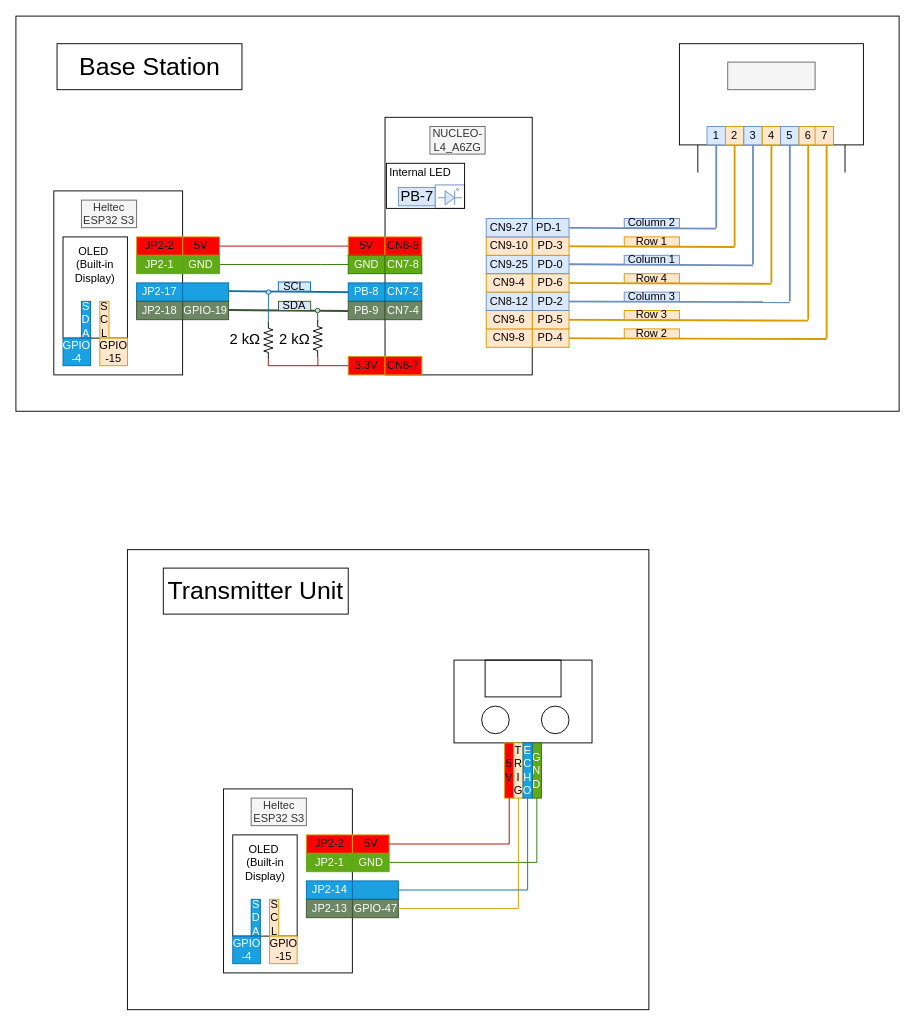
The diagram is 915 pixels wide and 1026 high, and some of its shapes have lost their labels. Here are the shapes that lost their labels. From the top down, the box of each, then its label:
(727, 61, 815, 90): 4x3 Keypad: COM-14662
(182, 282, 229, 301): GPIO-20
(484, 659, 561, 697): Rangefinder: HC-SR04
(351, 880, 398, 899): GPIO-48
